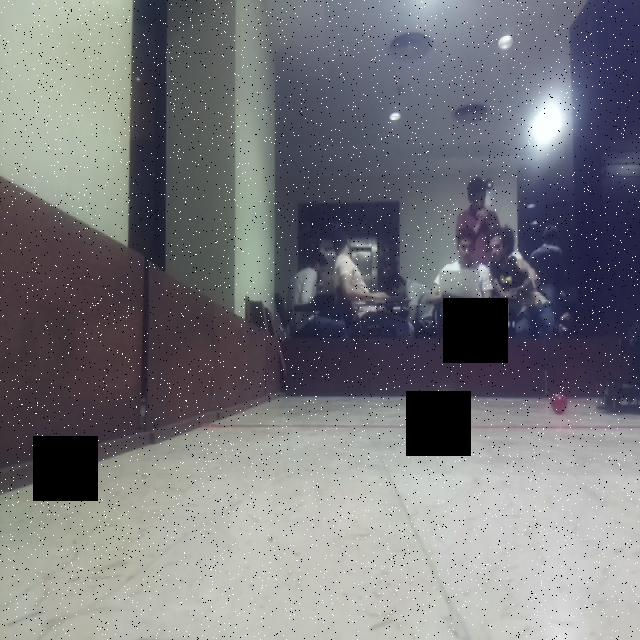ball: (546, 387, 573, 419)
